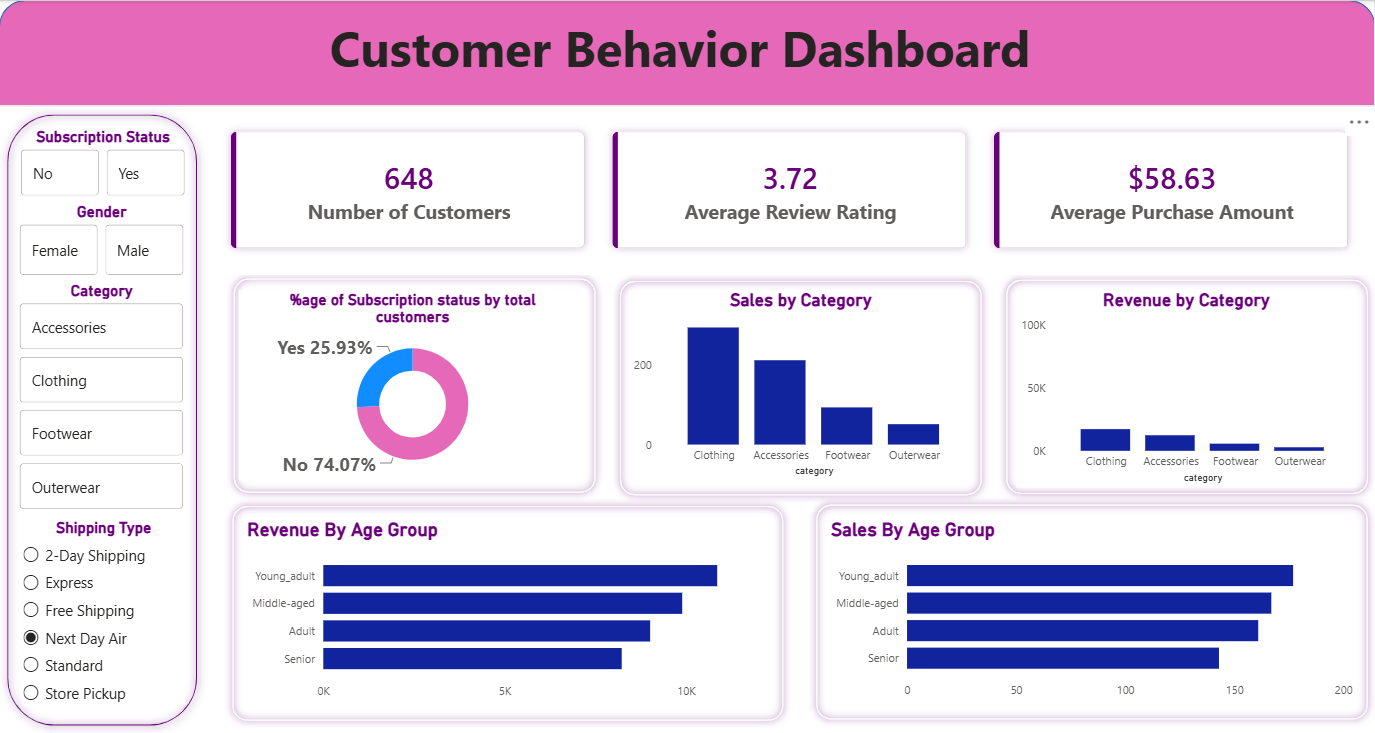

Layout of this report page (visuals, bound fields, positions):
{"tool":"powerbi","page":{"name":"Page 1","canvas":[1500,800],"ordinal":0},"visuals":[{"type":"shape","box":[246.2,543.8,616.2,250],"z":0},{"type":"shape","box":[1089.8,296.8,410.2,249.4],"z":1000},{"type":"shape","box":[669,298.1,410.2,249.4],"z":2000},{"type":"shape","box":[248,295.4,410.2,249.4],"z":3000},{"type":"cardVisual","fields":{"Data":["public customer_cleaned.Number of Customers","public customer_cleaned.Average Review Rating","public customer_cleaned.Average Purchase Amount"]},"box":[224.8,115.8,1275.4,184],"z":4000},{"type":"shape","box":[0,0,1500.3,115.8],"z":5000},{"type":"textbox","box":[355.7,10.9,787.6,95.4],"z":6000},{"type":"donutChart","title":"%age of Subscription status by total customers","fields":{"Category":["public customer_cleaned.subscription_status"],"Y":["CountNonNull(public customer_cleaned.customer_id)"]},"box":[261.2,316.2,378.8,207.5],"z":7000},{"type":"clusteredColumnChart","title":"Revenue by Category","fields":{"Y":["Sum(public customer_cleaned.purchase_amount)"],"Category":["public customer_cleaned.category"]},"box":[1109.2,315.9,370.6,215.3],"z":8000},{"type":"clusteredColumnChart","title":"Sales by Category","fields":{"Y":["CountNonNull(public customer_cleaned.customer_id)"],"Category":["public customer_cleaned.category"]},"box":[686.7,315.9,374.7,208.5],"z":9000},{"type":"shape","box":[0,104.9,224.8,684],"z":10000},{"type":"advancedSlicerVisual","title":"Subscription Status","fields":{"Values":["public customer_cleaned.subscription_status"]},"box":[18.8,127.5,188.8,80],"z":11000},{"type":"advancedSlicerVisual","title":"Gender","fields":{"Values":["public customer_cleaned.gender"]},"box":[17.5,210,188.8,85],"z":12000},{"type":"advancedSlicerVisual","title":"Category","fields":{"Values":["public customer_cleaned.category"]},"box":[17.5,295,188.8,260],"z":13000},{"type":"listSlicer","title":"Shipping Type","fields":{"Values":["public customer_cleaned.shipping_type"]},"box":[20,555,187.5,225],"z":14000},{"type":"clusteredBarChart","title":"Revenue By Age Group","fields":{"Y":["Sum(public customer_cleaned.purchase_amount)"],"Category":["public customer_cleaned.age_group"]},"box":[266.2,565,577.5,206.2],"z":15000},{"type":"shape","box":[882.9,542.9,617.1,250],"z":15001},{"type":"clusteredBarChart","title":"Sales By Age Group","fields":{"Y":["CountNonNull(public customer_cleaned.customer_id)"],"Category":["public customer_cleaned.age_group"]},"box":[901.4,565.7,578.6,205.7],"z":15002}]}

Visuals, with their boxes in screenshot pixels (x1, y1, x2, y2), scaled from the page's 1500x800 canvas onto the 1375x733 screenshot:
shape: <box>226,498,791,727</box>
shape: <box>999,272,1374,500</box>
shape: <box>613,273,989,502</box>
shape: <box>227,271,603,499</box>
cardVisual - public customer_cleaned.Number of Customers x public customer_cleaned.Average Review Rating: <box>206,106,1374,275</box>
shape: <box>0,0,1374,106</box>
textbox: <box>326,10,1048,97</box>
"%age of Subscription status by total customers" donutChart: <box>239,290,587,480</box>
"Revenue by Category" clusteredColumnChart: <box>1017,289,1356,487</box>
"Sales by Category" clusteredColumnChart: <box>629,289,973,480</box>
shape: <box>0,96,206,723</box>
"Subscription Status" advancedSlicerVisual: <box>17,117,190,190</box>
"Gender" advancedSlicerVisual: <box>16,192,189,270</box>
"Category" advancedSlicerVisual: <box>16,270,189,509</box>
"Shipping Type" listSlicer: <box>18,509,190,715</box>
"Revenue By Age Group" clusteredBarChart: <box>244,518,773,707</box>
shape: <box>809,497,1374,726</box>
"Sales By Age Group" clusteredBarChart: <box>826,518,1357,707</box>
